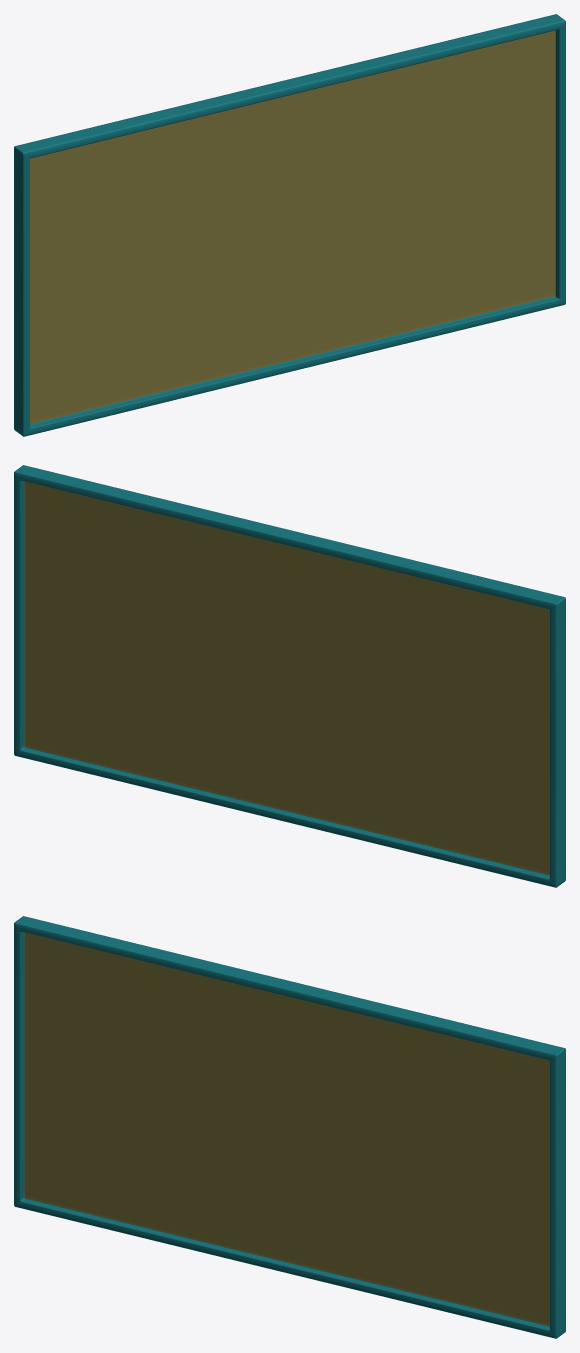
Rendered from ArtRoomWindow.fbx.
3 views of the same model, one above another, from view 1: azimuth 30°, elevation 25°; view 2: azimuth 150°, elevation 25°; view 3: azimuth 330°, elevation 25° (orthographic).
Parts seen in each view (by area): view 1: ArtRoomWindow_High (×2); view 2: ArtRoomWindow_High (×2); view 3: ArtRoomWindow_High (×2).
Part boxes in pixels (bbox=[...]): ArtRoomWindow_High (×2): bbox=[14, 14, 565, 436]; ArtRoomWindow_High (×2): bbox=[14, 465, 565, 887]; ArtRoomWindow_High (×2): bbox=[14, 916, 565, 1338].
Bounding box in the file's own units: 16 × 8 × 0.5.
